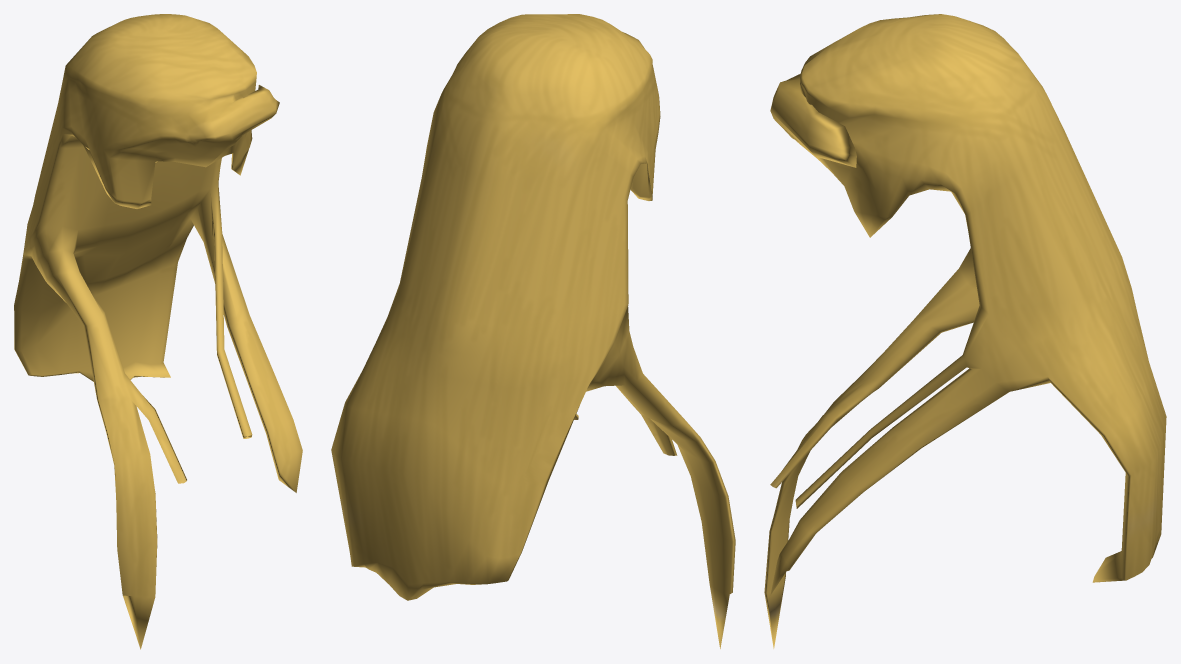
The model's file is hair 4.fbx.
3 views of the same model, side by side, from view 1: azimuth 30°, elevation 25°; view 2: azimuth 150°, elevation 25°; view 3: azimuth 270°, elevation 25° (orthographic). The views are drawn at different scales.
Visible parts, largest first — view 1: pasted__pSphere16; view 2: pasted__pSphere16; view 3: pasted__pSphere16.
Part boxes in pixels (bbox=[...]): pasted__pSphere16: bbox=[14, 14, 302, 649]; pasted__pSphere16: bbox=[331, 14, 735, 648]; pasted__pSphere16: bbox=[764, 14, 1166, 648].
Bounding box in the file's own units: 1.4 × 3.66 × 1.99.
Materials: 1 (1 with a texture image).
